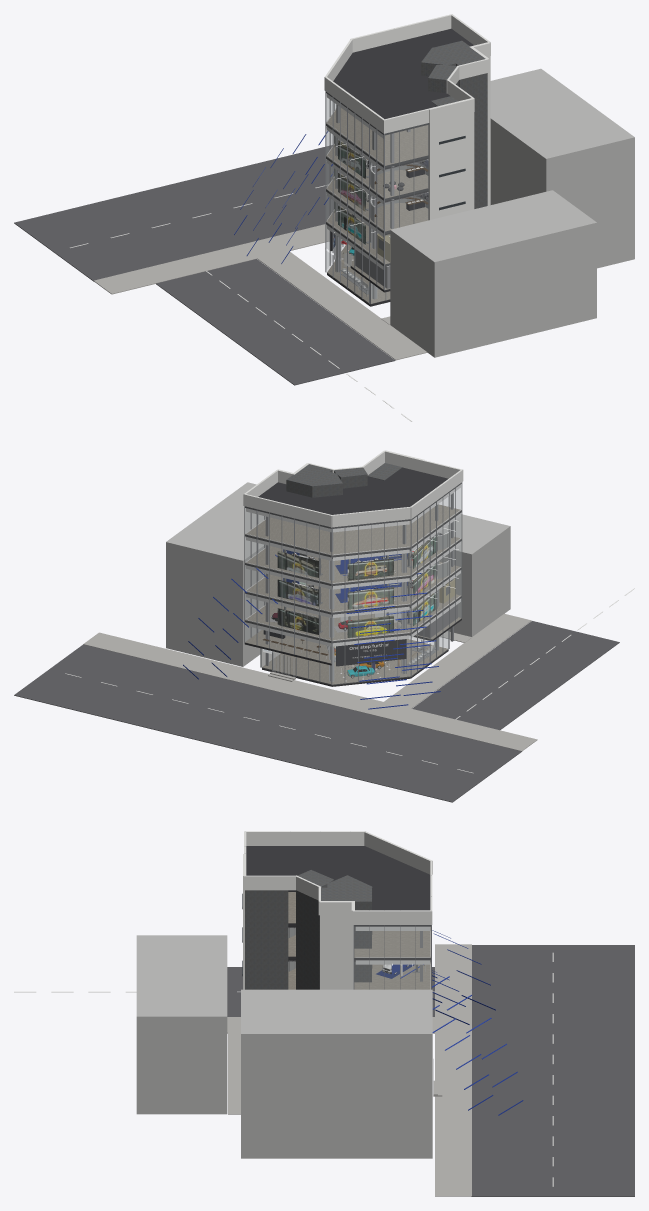
Rendered from hyundai.glb.
The picture shows the model from 3 angles, top to bottom: view 1: azimuth 30°, elevation 25°; view 2: azimuth 150°, elevation 25°; view 3: azimuth 270°, elevation 25°; orthographic projection. The views are drawn at different scales.
Visible parts, largest first — view 1: site, building, glass, exhibits, ceilings; view 2: site, building, glass, exhibits, ceilings; view 3: site, building, glass, exhibits.
Boxes of the visible parts, x1,y1,x2,y2 form: site: (14,68,634,421); building: (324,14,490,306); glass: (325,92,428,303); exhibits: (234,131,428,296); ceilings: (326,127,428,299); site: (14,482,634,802); building: (243,450,463,686); glass: (245,483,461,684); exhibits: (183,531,457,709); ceilings: (272,532,439,681); site: (14,935,634,1196); building: (242,831,432,989); glass: (354,925,430,989); exhibits: (288,927,523,1115).
Bounding box in the file's own units: 80 × 30.2 × 83.5.
Materials: 235 (56 with a texture image).
